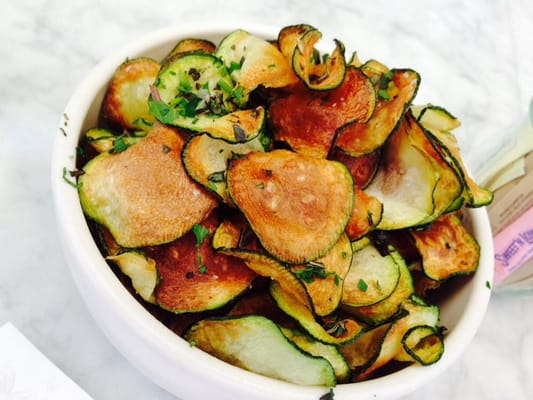soup: (67, 19, 501, 394)
sushi: (49, 7, 454, 400)
